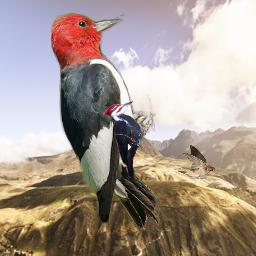Swallow: (177, 145, 215, 179)
Woodpecker: (51, 11, 163, 230), (103, 101, 146, 179)
